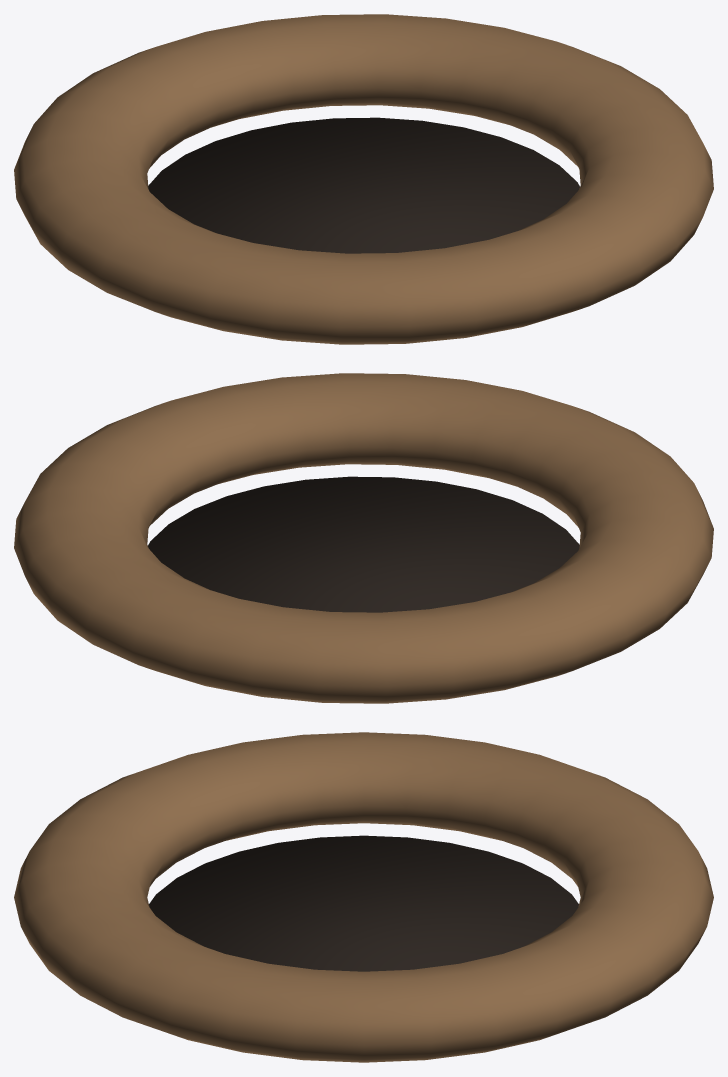
File: burrow.glb
The picture shows the model from 3 angles, top to bottom: view 1: azimuth 30°, elevation 25°; view 2: azimuth 150°, elevation 25°; view 3: azimuth 270°, elevation 25°; orthographic projection.
Parts seen in each view (by area): view 1: Burrow_Rim, Burrow_Hole; view 2: Burrow_Rim, Burrow_Hole; view 3: Burrow_Rim, Burrow_Hole.
Part boxes in pixels (x1,y1,x2,y2): Burrow_Rim: (14, 14, 713, 344); Burrow_Hole: (148, 117, 579, 253); Burrow_Rim: (14, 373, 713, 703); Burrow_Hole: (148, 476, 579, 612); Burrow_Rim: (14, 732, 713, 1062); Burrow_Hole: (149, 835, 578, 971).
Bounding box in the file's own units: 0.84 × 0.096 × 0.84.
